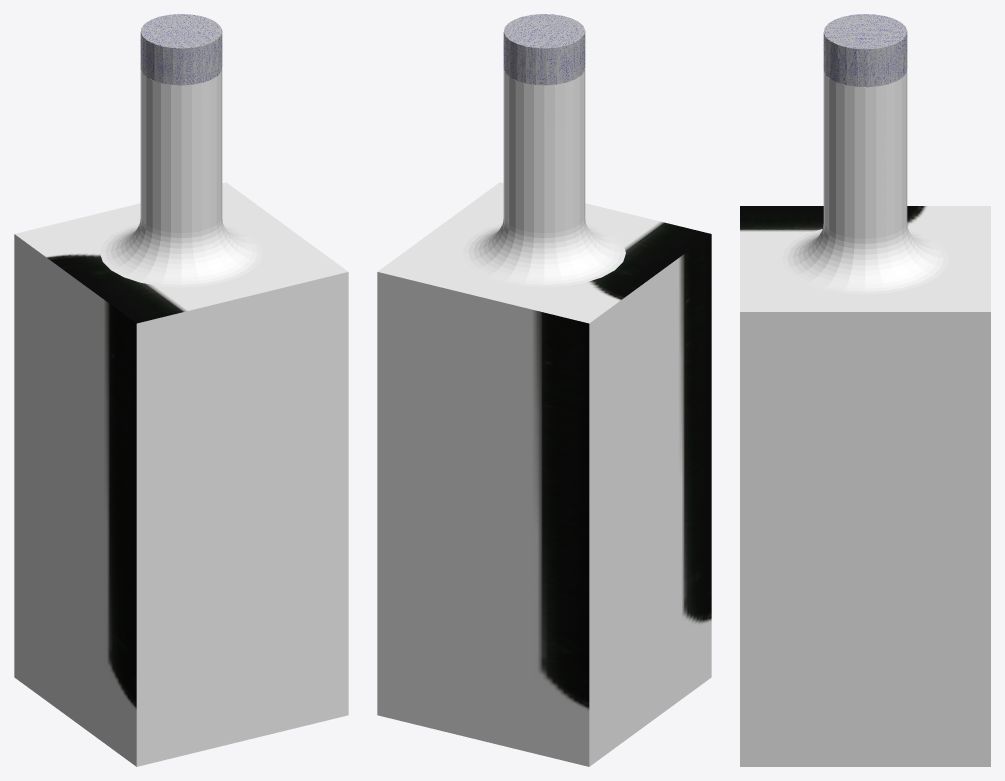
The picture shows the model from 3 angles, left to right: view 1: azimuth 30°, elevation 25°; view 2: azimuth 150°, elevation 25°; view 3: azimuth 270°, elevation 25°; orthographic projection. The views are drawn at different scales.
Parts seen in each view (by area): view 1: mesh1.001_mesh1-geometry, mesh3.001_mesh3-geometry; view 2: mesh1.001_mesh1-geometry, mesh3.001_mesh3-geometry; view 3: mesh1.001_mesh1-geometry, mesh3.001_mesh3-geometry.
Boxes of the visible parts, x1,y1,x2,y2 form: mesh1.001_mesh1-geometry: (14, 68, 348, 766); mesh3.001_mesh3-geometry: (140, 14, 222, 85); mesh1.001_mesh1-geometry: (377, 68, 711, 766); mesh3.001_mesh3-geometry: (503, 14, 585, 85); mesh1.001_mesh1-geometry: (740, 69, 990, 766); mesh3.001_mesh3-geometry: (823, 14, 907, 87).
Bounding box in the file's own units: 0.3015 × 0.9045 × 0.3015.
